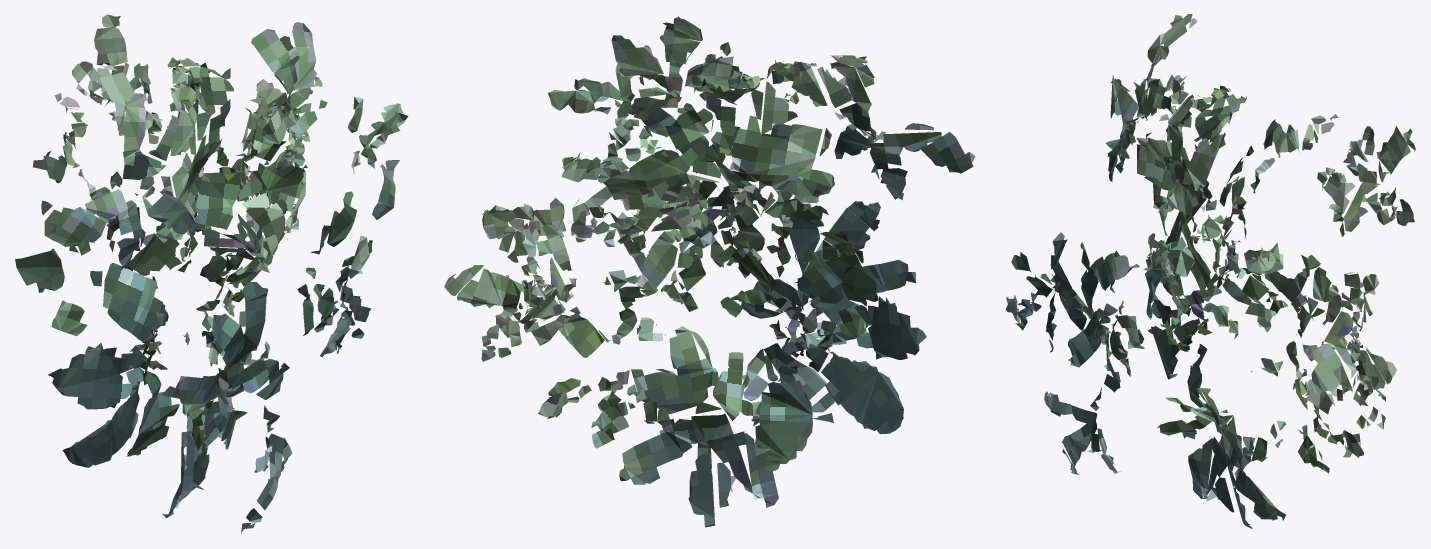
File: rodgersia_fbx.fbx
The picture shows the model from 3 angles, left to right: view 1: azimuth 30°, elevation 25°; view 2: azimuth 150°, elevation 25°; view 3: azimuth 270°, elevation 25°; orthographic projection. The views are drawn at different scales.
Parts seen in each view (by area): view 1: Model; view 2: Model; view 3: Model.
Boxes of the visible parts, box(x1,y1,x2,y2) form: Model: box(15, 14, 408, 533); Model: box(444, 16, 975, 527); Model: box(1005, 14, 1415, 528).
Bounding box in the file's own units: 2.04 × 2.42 × 1.93.
